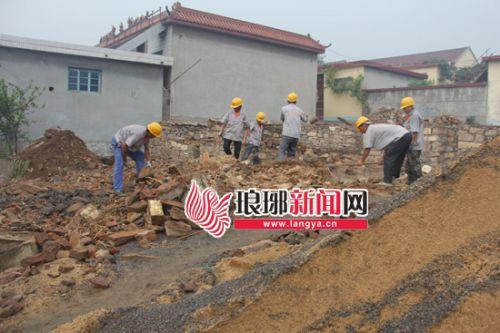helmet: (148, 122, 163, 139), (400, 97, 416, 110), (356, 116, 370, 130), (230, 98, 244, 110), (288, 93, 299, 103), (256, 113, 266, 123)
